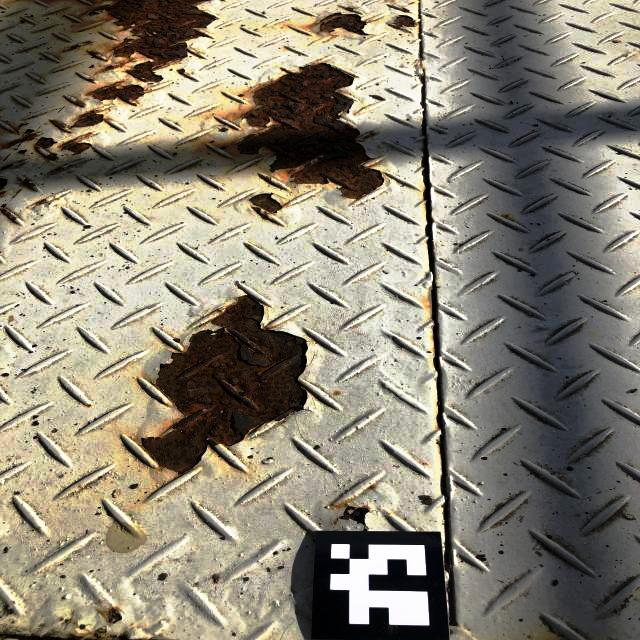Corrosion: (143, 297, 306, 472), (239, 63, 383, 199), (97, 0, 216, 81), (87, 80, 143, 103), (317, 12, 366, 33), (58, 131, 96, 154), (249, 193, 281, 213), (69, 109, 103, 127), (340, 507, 370, 526), (9, 129, 39, 145), (388, 14, 418, 28), (102, 59, 130, 72), (106, 606, 124, 625), (67, 40, 94, 52), (252, 207, 274, 219), (33, 137, 54, 149), (0, 208, 18, 221), (50, 120, 68, 129), (0, 176, 8, 192), (23, 178, 37, 187), (2, 164, 14, 172), (43, 152, 56, 159), (75, 99, 84, 108), (88, 50, 99, 57), (35, 199, 47, 205), (88, 11, 100, 16), (17, 149, 28, 154), (56, 167, 62, 172)
